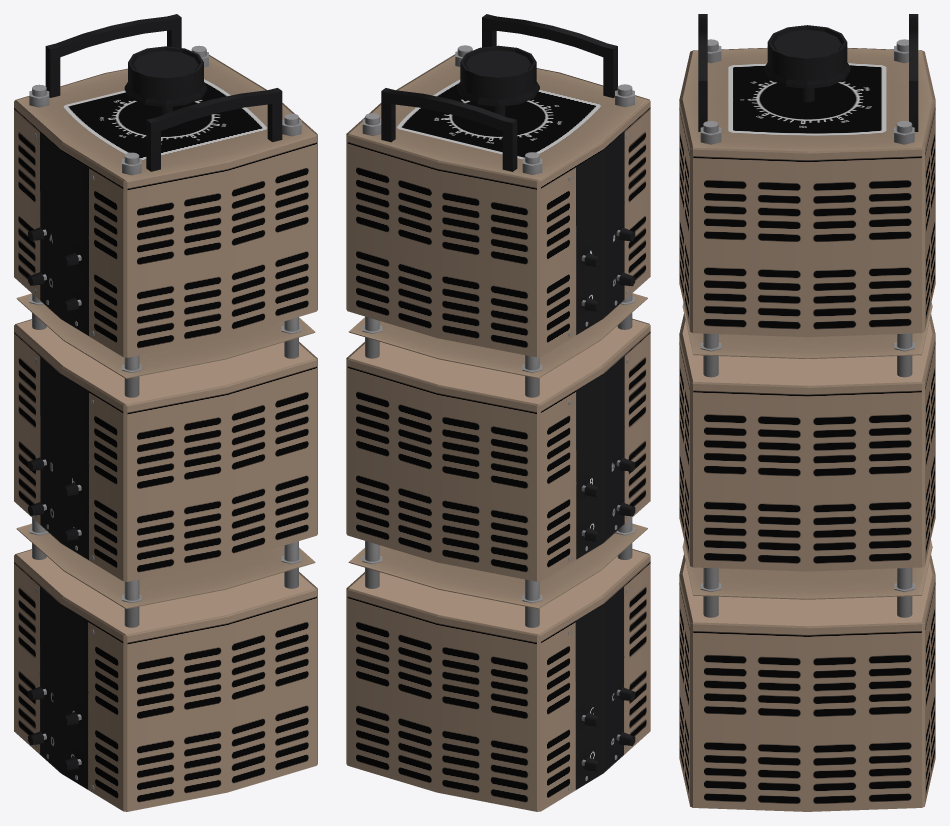
Rendered from 三个小立方.FBX.
The picture shows the model from 3 angles, left to right: view 1: azimuth 30°, elevation 25°; view 2: azimuth 150°, elevation 25°; view 3: azimuth 270°, elevation 25°; orthographic projection. The views are drawn at different scales.
Visible parts, largest first — view 1: xlf; view 2: xlf; view 3: xlf.
Part boxes in pixels (x1,y1,x2,y2): xlf: (14, 14, 317, 811); xlf: (346, 14, 650, 811); xlf: (679, 14, 935, 811).
Size of the model in its own units: 180 by 172 by 529.
